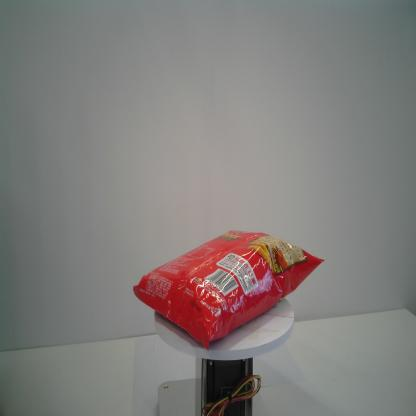Puffed Food: (132, 225, 325, 355)
